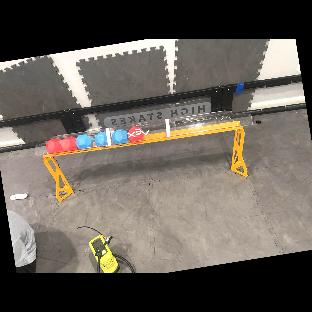Goal: (31, 103, 254, 161)
blueingoal: (108, 126, 129, 146), (74, 133, 93, 149), (94, 130, 111, 147)
redingoal: (59, 134, 78, 153), (126, 124, 144, 144), (43, 136, 63, 154)
